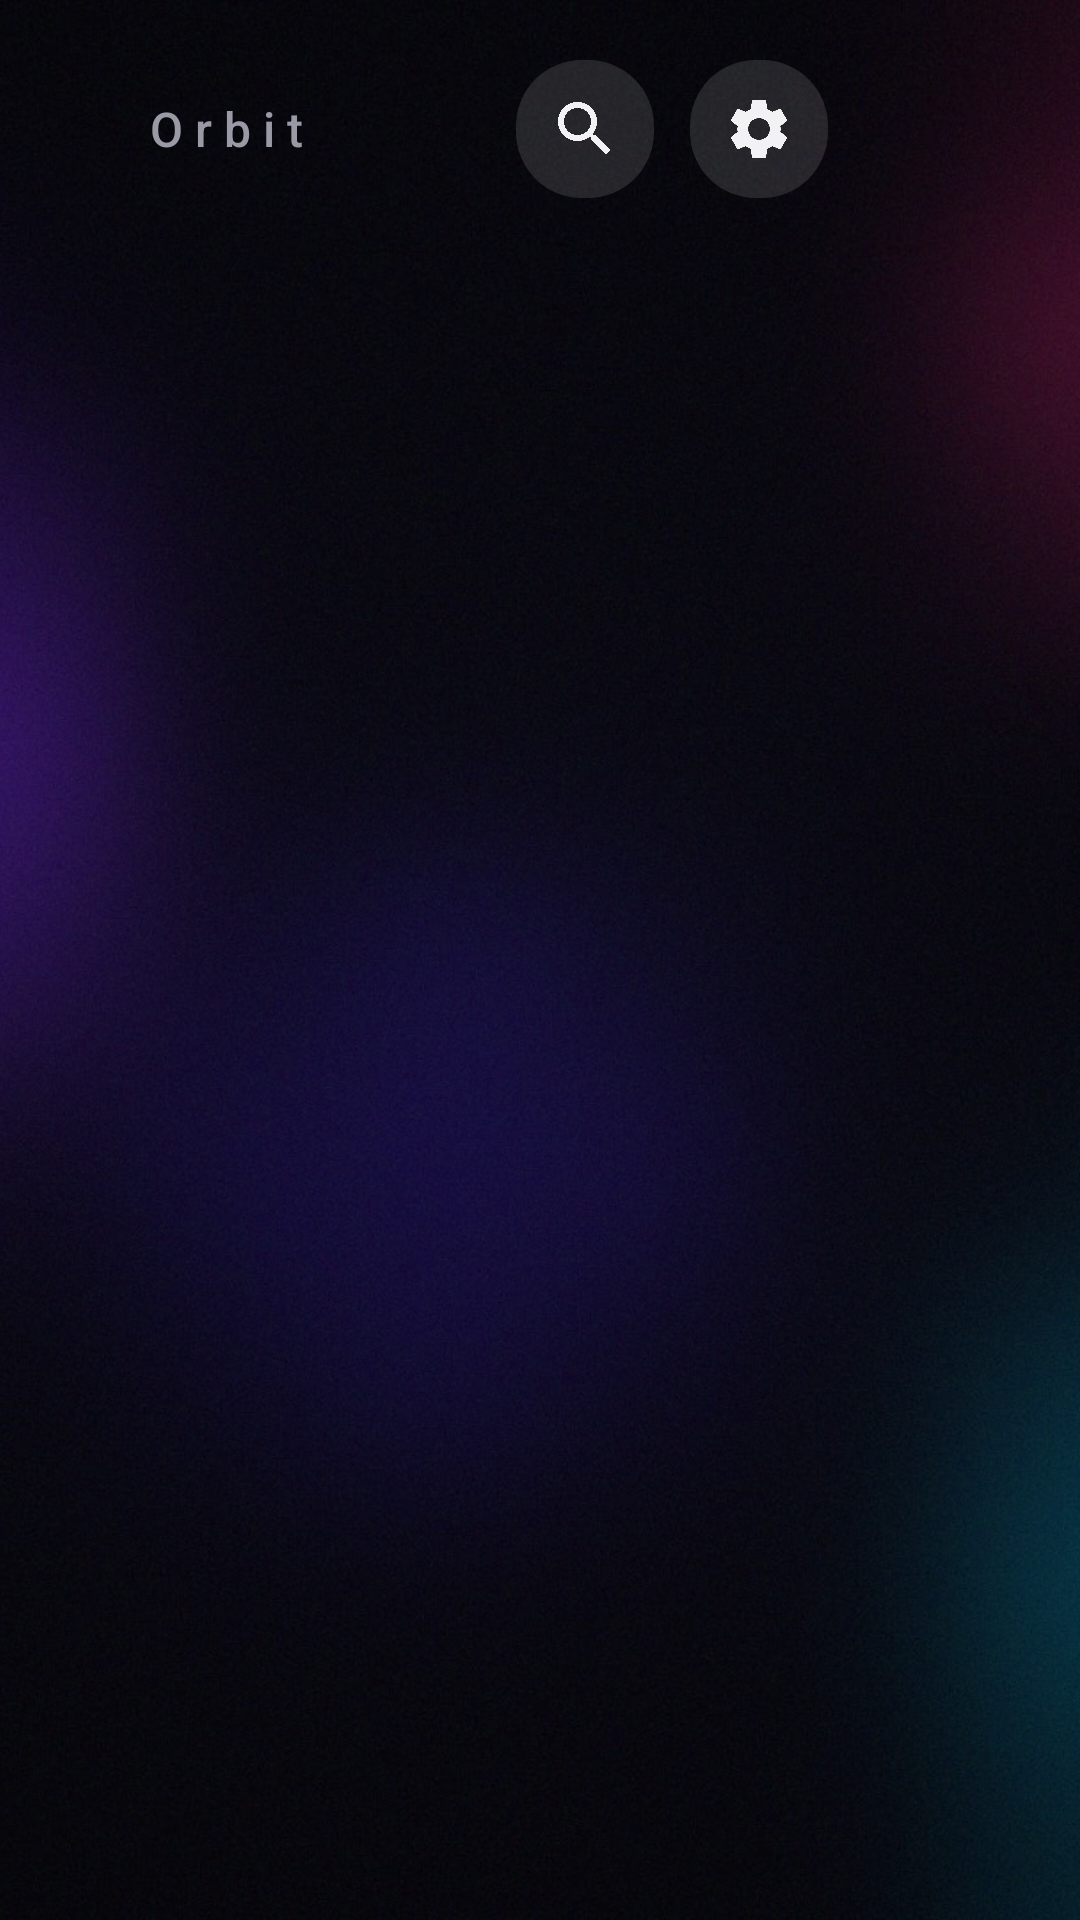

Icons on this 1080×1920 Android screen, each with the point to tap as point (x, y):
Search: point (585, 129)
Settings: point (759, 129)
